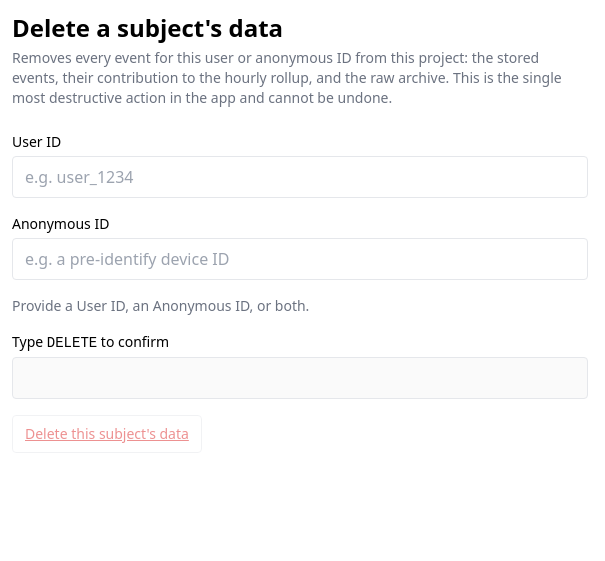
Test case: SubjectDeletion › clears the form after a successful deletion, requiring re-confirmation for the next one
Type "user-1" into the field labelled "User ID".
click(300, 177); type("user-1")  # box [12,156,588,198]
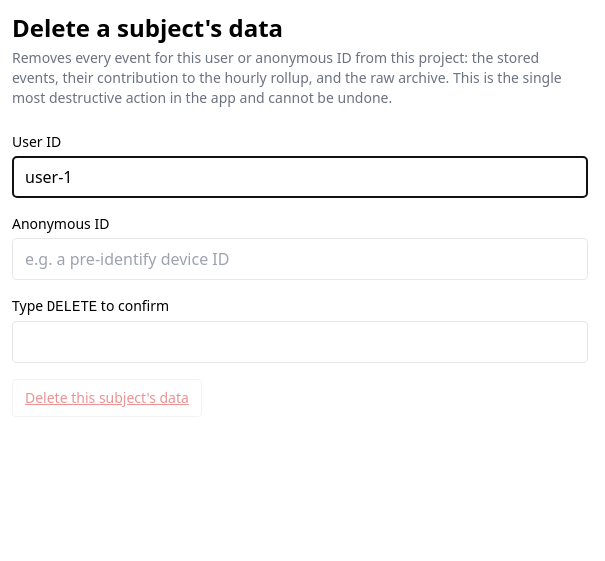
Type "DELETE" into the field labelled "Type DELETE to confirm".
click(300, 342); type("DELETE")  # box [12,321,588,363]
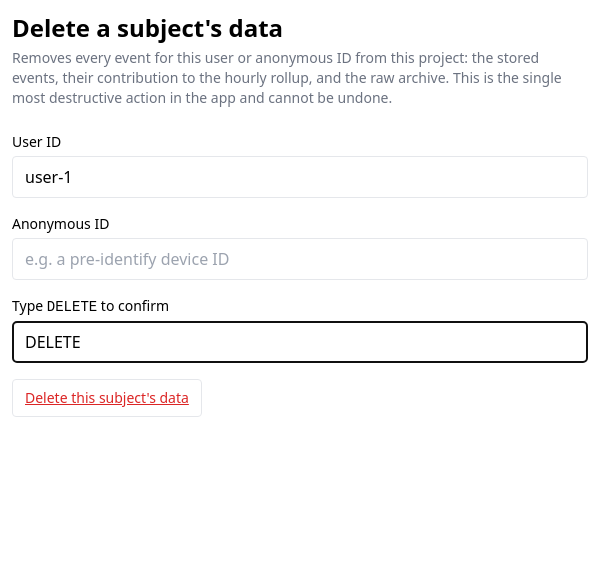
Click the button "Delete this subject's data".
click(107, 398)  # box [12,379,202,417]
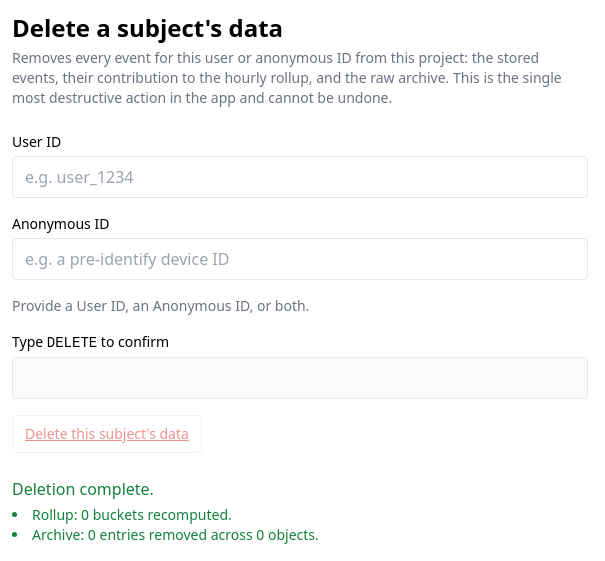
expect the text "Deletion complete." is shown: met, box [12,478,154,500]
expect the field labelled "User ID" is empty: met, box [12,156,588,198]
expect the button "Delete this subject's data" is disabled: met, box [12,415,202,453]
